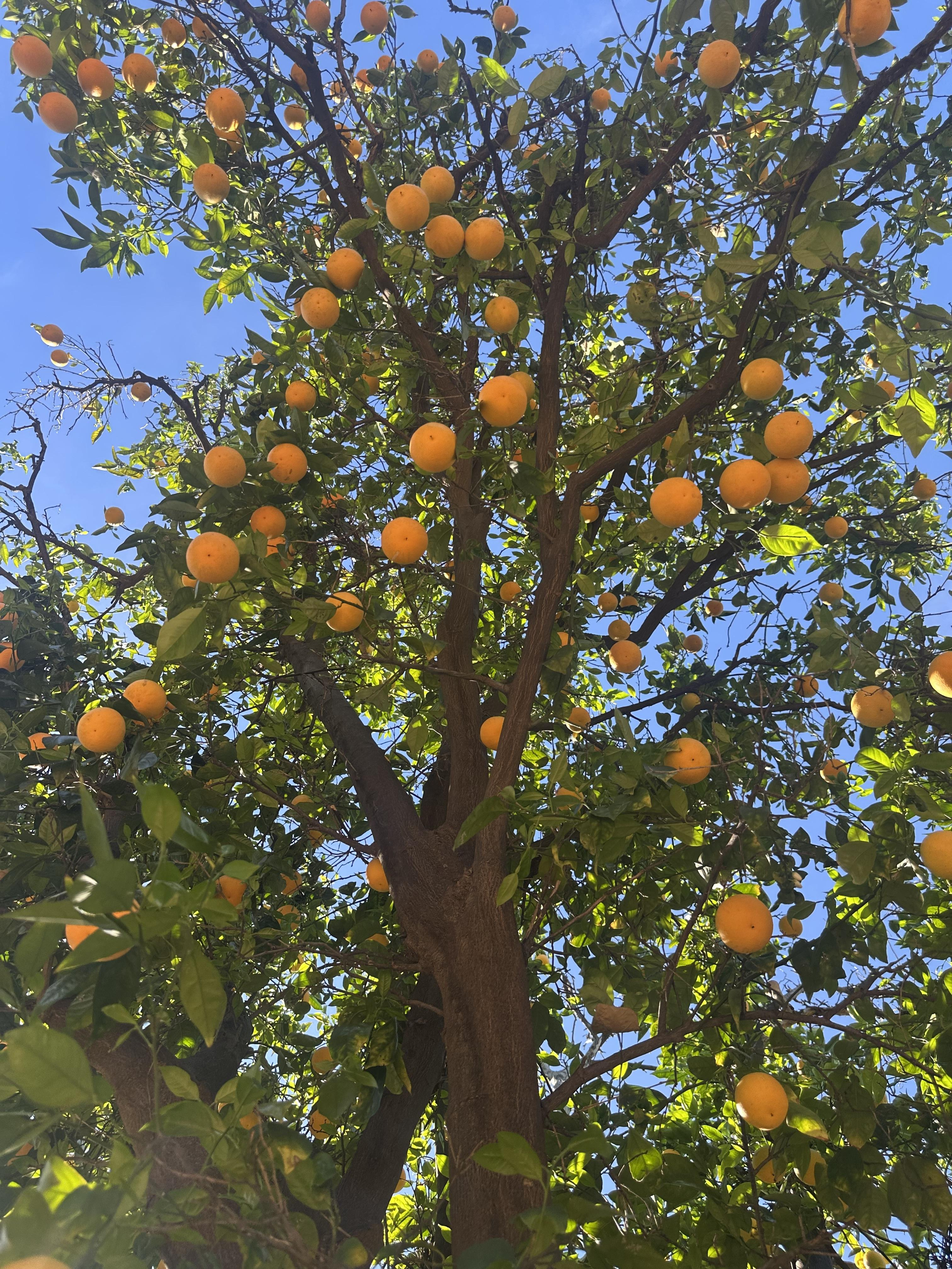orange: (65, 897, 140, 962), (715, 893, 773, 954), (735, 1072, 788, 1131), (186, 532, 239, 583), (719, 459, 770, 510), (650, 477, 702, 527), (479, 375, 528, 427), (764, 411, 813, 459), (839, 0, 890, 46), (381, 517, 428, 566), (76, 707, 126, 753), (410, 423, 456, 472), (665, 738, 711, 783), (386, 183, 429, 231), (698, 39, 740, 88), (766, 458, 810, 504), (205, 87, 246, 131), (123, 679, 167, 720), (740, 358, 783, 399), (851, 685, 892, 728), (203, 446, 246, 487), (464, 217, 504, 261), (12, 34, 52, 77), (425, 214, 464, 258), (38, 92, 78, 134), (267, 443, 308, 483), (76, 58, 115, 100), (326, 247, 364, 290), (301, 287, 339, 330), (325, 592, 364, 632), (920, 830, 952, 878), (193, 163, 230, 204), (122, 53, 157, 92), (214, 874, 249, 913), (19, 733, 58, 768), (484, 296, 519, 334), (420, 166, 455, 203), (218, 1102, 264, 1130), (753, 1145, 786, 1183), (793, 1149, 827, 1185), (608, 640, 642, 673), (929, 651, 952, 698), (250, 506, 286, 536), (360, 0, 389, 34), (285, 380, 316, 411), (265, 537, 294, 569), (480, 715, 505, 751), (6, 1255, 69, 1269), (192, 13, 221, 43), (305, 0, 331, 33), (509, 370, 537, 400), (309, 1109, 337, 1139), (366, 858, 390, 892), (213, 127, 243, 154), (161, 17, 187, 48), (556, 785, 585, 812), (0, 642, 26, 672), (150, 698, 177, 725), (492, 4, 517, 33), (273, 905, 301, 930), (654, 50, 679, 78), (6, 1143, 37, 1165), (820, 759, 847, 784), (565, 707, 591, 732), (284, 104, 308, 131), (745, 111, 769, 138), (495, 126, 521, 150), (280, 869, 303, 896), (912, 476, 936, 501), (824, 516, 848, 540), (818, 582, 843, 605), (416, 49, 439, 74), (793, 675, 818, 698), (590, 87, 612, 113), (779, 915, 802, 939), (608, 618, 631, 642), (745, 159, 767, 184), (313, 1046, 334, 1072), (499, 580, 522, 603), (40, 324, 63, 347), (355, 373, 379, 395), (0, 602, 18, 631), (523, 143, 547, 164), (129, 381, 152, 402), (790, 494, 813, 515), (290, 63, 307, 91), (776, 163, 795, 188), (838, 1196, 856, 1222), (355, 69, 374, 93), (330, 81, 349, 104), (252, 351, 272, 372), (361, 346, 381, 367), (344, 138, 362, 161), (597, 592, 617, 612), (322, 493, 346, 509), (844, 408, 868, 424), (680, 692, 700, 711), (201, 683, 221, 702), (690, 213, 712, 230), (335, 123, 351, 146), (580, 504, 600, 522), (129, 719, 153, 734), (864, 1253, 886, 1269), (705, 599, 723, 618), (51, 349, 70, 367), (683, 634, 702, 652), (307, 829, 325, 848), (461, 179, 477, 200), (394, 1171, 409, 1193), (365, 934, 390, 947), (105, 507, 124, 524), (662, 431, 677, 452), (879, 380, 896, 398), (864, 350, 881, 368), (301, 249, 317, 268), (377, 55, 394, 72), (304, 223, 322, 239), (678, 291, 694, 309), (557, 632, 576, 647), (269, 220, 287, 235), (620, 595, 639, 609), (365, 196, 379, 215), (715, 134, 734, 148), (183, 570, 197, 588), (443, 560, 455, 581), (317, 188, 331, 205), (291, 953, 304, 971), (292, 795, 315, 805), (296, 331, 312, 343), (293, 297, 302, 318), (65, 599, 79, 612), (300, 987, 310, 1003), (589, 401, 598, 418), (477, 197, 487, 212), (537, 953, 549, 965), (661, 1149, 681, 1156), (565, 462, 579, 472), (512, 450, 523, 462), (946, 379, 952, 400), (529, 398, 538, 410), (156, 459, 165, 470), (319, 354, 327, 363), (913, 322, 920, 329)
